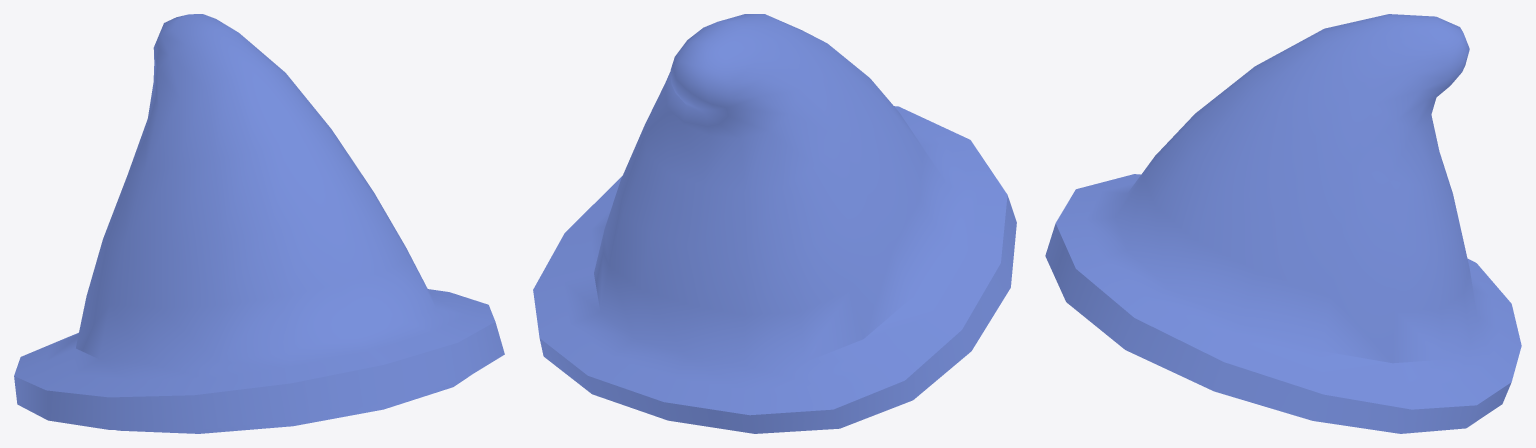
The model's file is wizard.glb.
The picture shows the model from 3 angles, left to right: view 1: azimuth 30°, elevation 25°; view 2: azimuth 150°, elevation 25°; view 3: azimuth 270°, elevation 25°; orthographic projection. The views are drawn at different scales.
Parts seen in each view (by area): view 1: normal.015, small.010; view 2: normal.015; view 3: normal.015.
Boxes of the visible parts, x1,y1,x2,y2 form: normal.015: (14,14,504,430); small.010: (116,376,469,433); normal.015: (533,14,1016,433); normal.015: (1045,14,1521,433).
Size of the model in its own units: 1.97 by 1.64 by 2.03.
